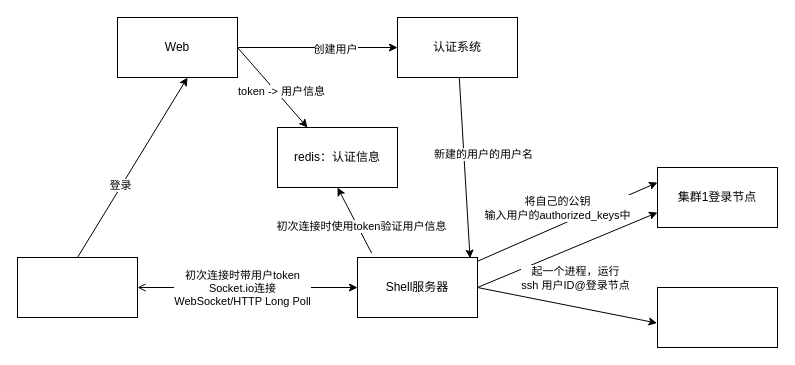
Image size: 795x365. Some labels were removed from this diagram. Here are the shapes that lost their labels. From the top down, the box of each, then its label:
(16, 256, 138, 318): 浏览器
(656, 286, 778, 348): 集群2登录节点
